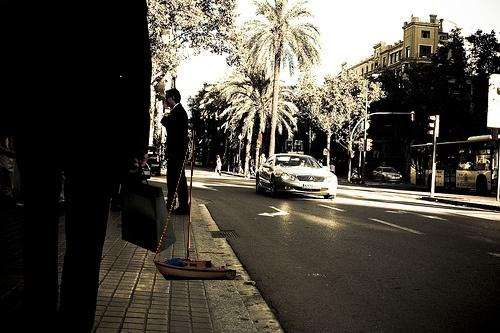tampered: (154, 130, 236, 280)
